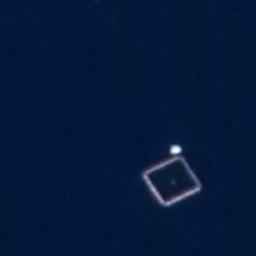square_solid: (137, 151, 206, 210)
